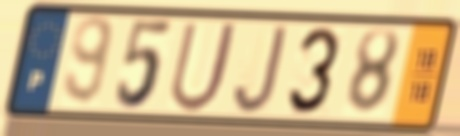3: (285, 24, 345, 119)
5: (113, 17, 178, 114)
8: (343, 26, 401, 120)
9: (62, 12, 117, 113)
J: (230, 23, 291, 117)
U: (166, 18, 242, 116)
